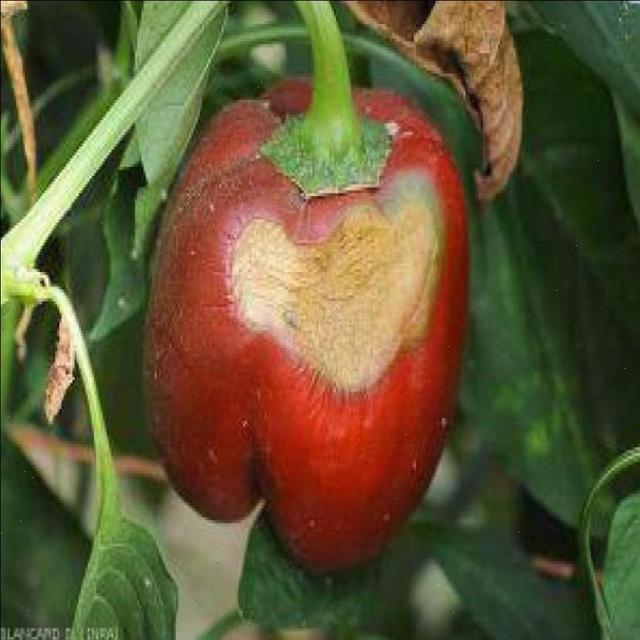Sunscald Fruit: (150, 112, 297, 262)
